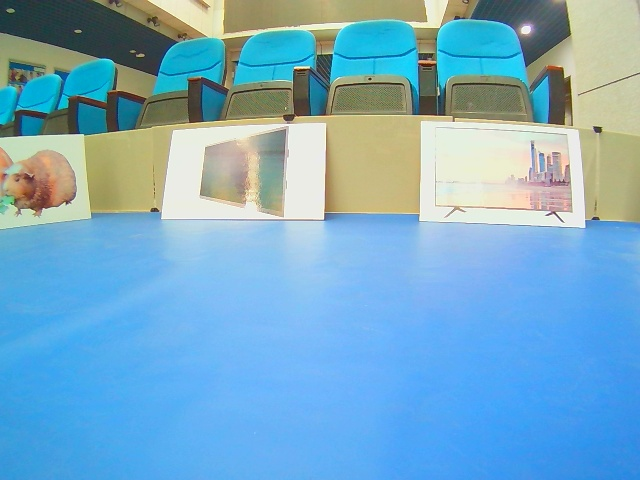tv: (421, 121, 588, 234), (160, 122, 328, 222)
